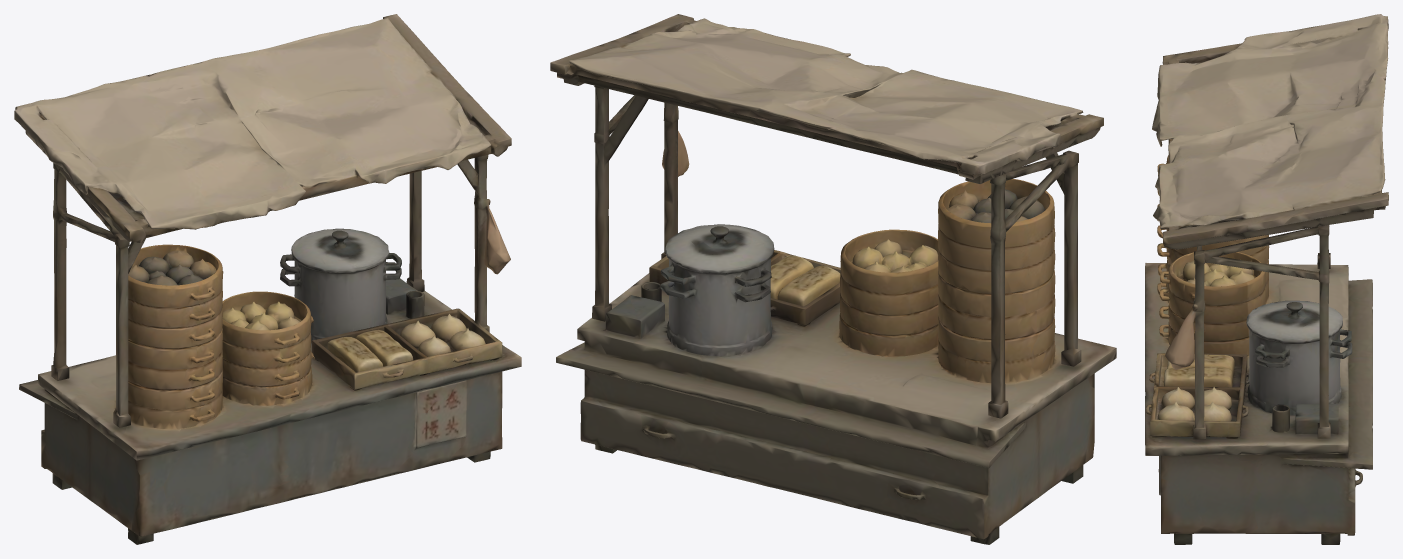
Rendered from tripo_convert_e82ee82d-c420-40d2-97bf-57d4b2861673.fbx.
3 renders of one model, left to right at view 1: azimuth 30°, elevation 25°; view 2: azimuth 150°, elevation 25°; view 3: azimuth 270°, elevation 25°, orthographic. The views are drawn at different scales.
Visible parts, largest first — view 1: tripo_node_e82ee82d; view 2: tripo_node_e82ee82d; view 3: tripo_node_e82ee82d.
Part boxes in pixels (x1,y1,x2,y2): tripo_node_e82ee82d: (14,14,521,544); tripo_node_e82ee82d: (550,14,1116,544); tripo_node_e82ee82d: (1145,14,1388,544).
Bounding box in the file's own units: 1 × 0.888 × 0.5501.
Materials: 1 (1 with a texture image).
